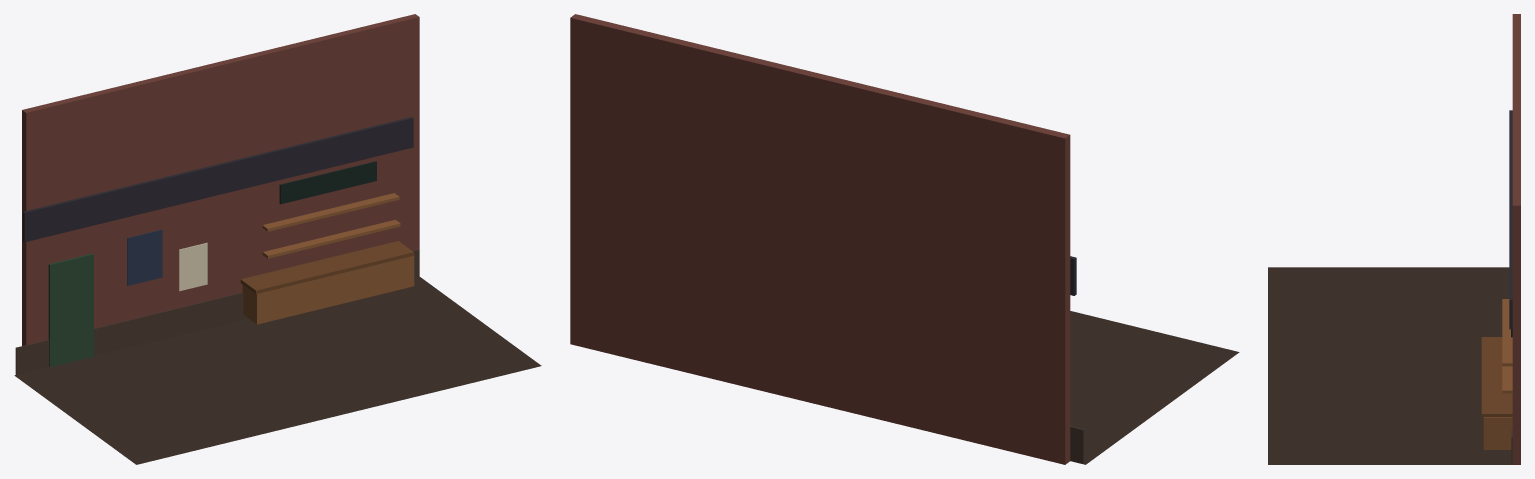
The model's file is pub.glb.
3 renders of one model, left to right at view 1: azimuth 30°, elevation 25°; view 2: azimuth 150°, elevation 25°; view 3: azimuth 270°, elevation 25°, orthographic. The views are drawn at different scales.
Visible parts, largest first — view 1: wall, floor, apron, beam, wainscot, bar, hit_door, bar-top, sign, window, poster, shelf_1 (+1 smaller); view 2: wall, apron, floor; view 3: floor, apron, wall, bar-top, bar, beam, shelf_0, shelf_1.
Part boxes in pixels (x1,y1,x2,y2): wall: [22, 14, 419, 345]; floor: [14, 276, 500, 434]; apron: [96, 336, 541, 464]; beam: [23, 117, 413, 242]; wainscot: [15, 249, 419, 374]; bar: [242, 254, 414, 324]; hit_door: [48, 253, 93, 367]; bar-top: [240, 241, 413, 293]; sign: [279, 161, 376, 204]; window: [127, 229, 162, 285]; poster: [179, 242, 207, 291]; shelf_1: [262, 219, 400, 258]; wall: [570, 14, 1070, 464]; apron: [1070, 311, 1239, 389]; floor: [1070, 361, 1187, 464]; floor: [1350, 267, 1512, 464]; apron: [1268, 267, 1349, 464]; wall: [1512, 14, 1520, 464]; bar-top: [1481, 337, 1512, 417]; bar: [1483, 417, 1512, 449]; beam: [1509, 110, 1512, 329]; shelf_0: [1502, 299, 1512, 366]; shelf_1: [1502, 366, 1512, 393].
Size of the model in its own units: 11.33 by 6.93 by 6.13.
